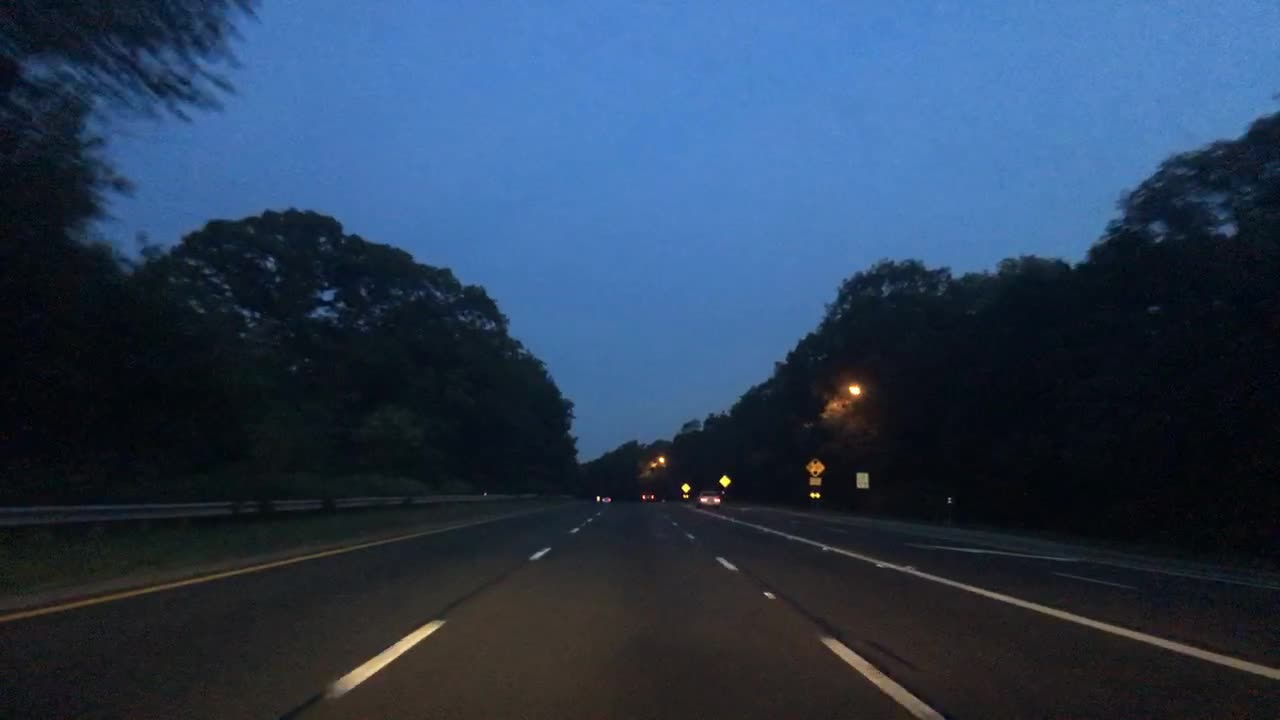car: (696, 491, 721, 509), (641, 491, 656, 504), (600, 495, 611, 504)
traffic sign: (806, 456, 824, 476), (855, 471, 868, 486), (716, 474, 729, 486), (808, 476, 821, 486), (680, 481, 690, 494)
